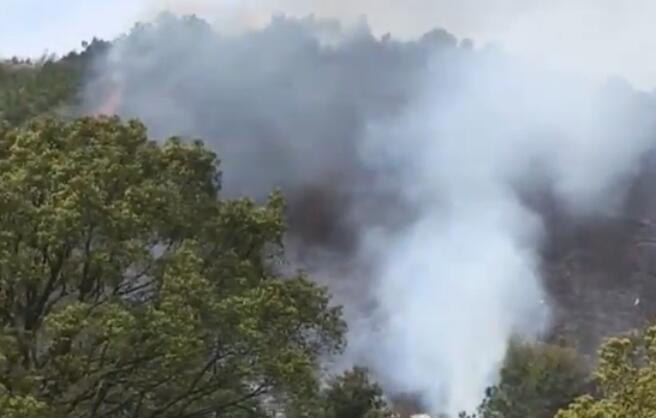yanwu: (90, 1, 642, 409)
